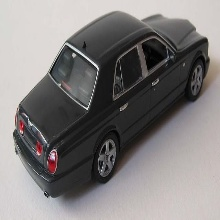no damage: (13, 10, 210, 201)
